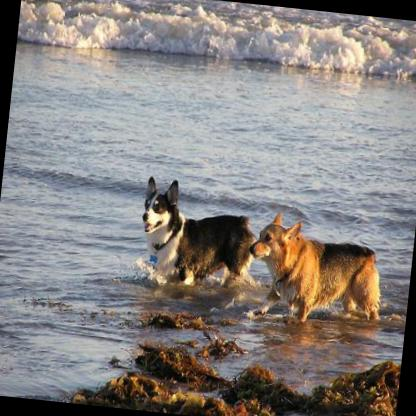Cardigan: (238, 206, 391, 341), (134, 173, 262, 292)
